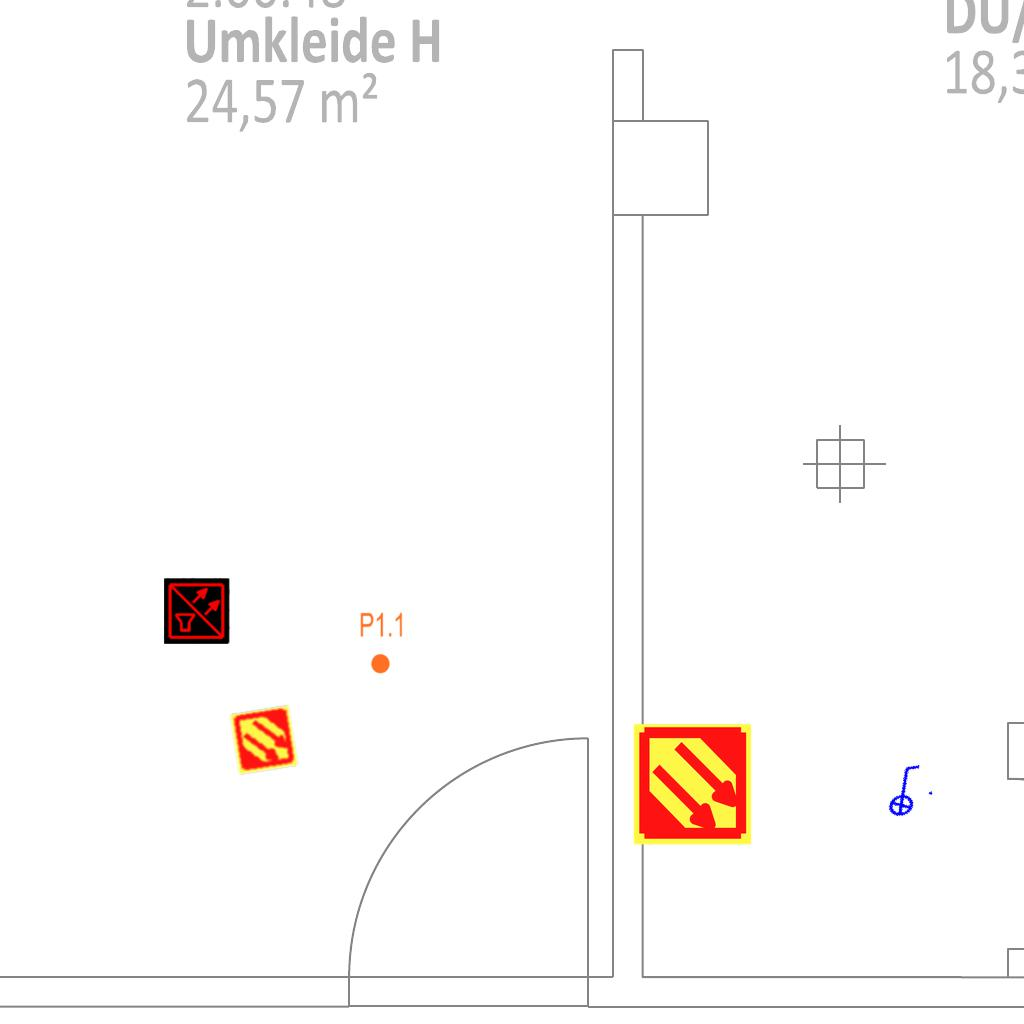ASR_Ansaugrauchmelder: (630, 722, 755, 847), (228, 704, 300, 776)
Ausschalter_beleuchtet: (868, 756, 940, 824)
Downlight_LED_Einbauleuchten_Flur: (359, 611, 405, 675)
OKW_Multisensormelder_(Kombination_optischer_Rauch-Kahlenmonoxid_Waerme-Melder): (164, 578, 230, 644)
